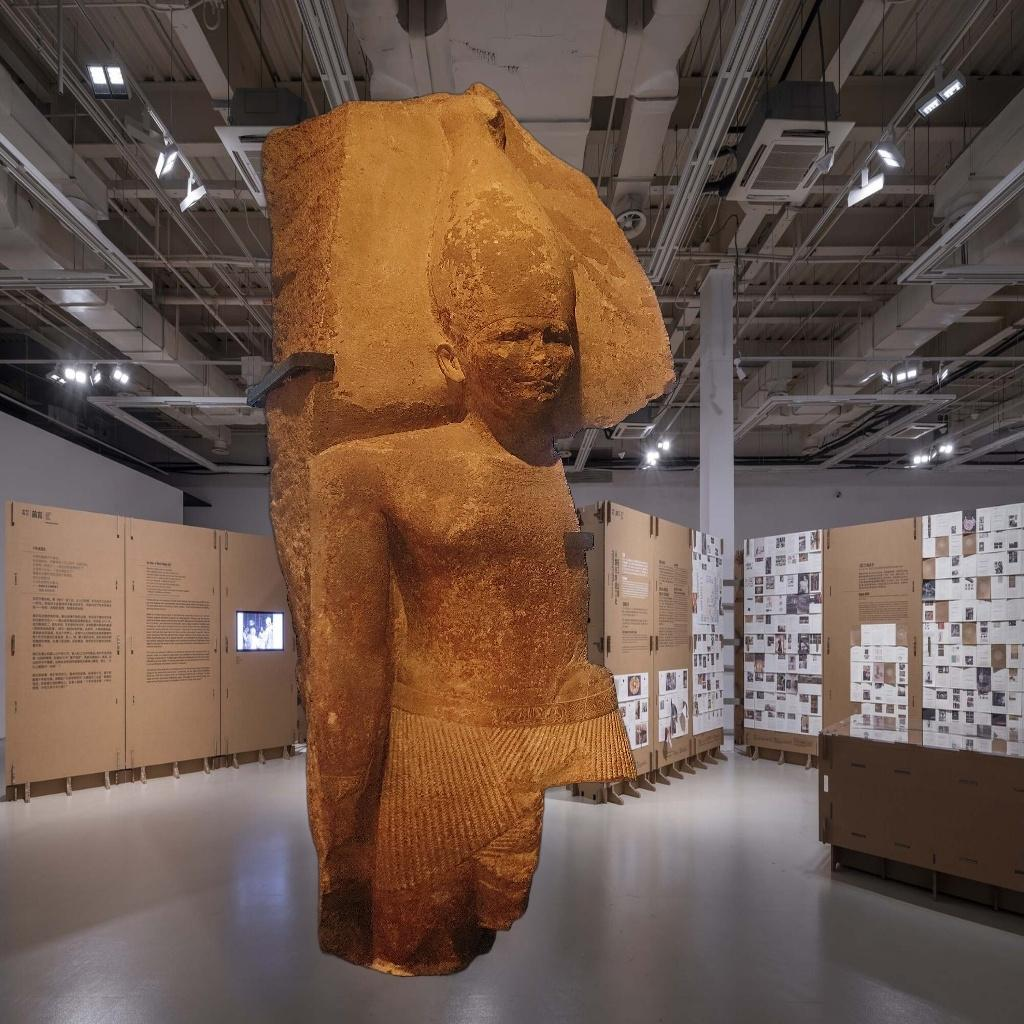Statue of Snefru: (243, 80, 681, 981)
